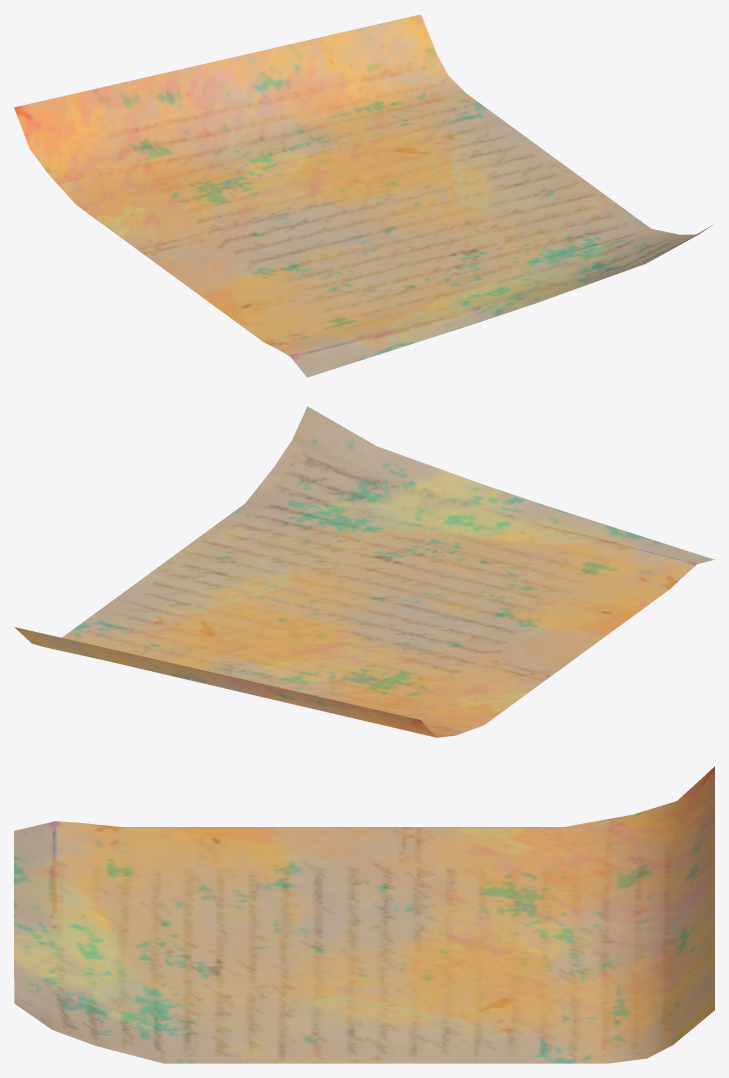
Rendered from SM_Paper_06.fbx.
The picture shows the model from 3 angles, top to bottom: view 1: azimuth 30°, elevation 25°; view 2: azimuth 150°, elevation 25°; view 3: azimuth 270°, elevation 25°; orthographic projection. The views are drawn at different scales.
Parts seen in each view (by area): view 1: SM_Paper_06_LOD0; view 2: SM_Paper_06_LOD0; view 3: SM_Paper_06_LOD0.
Part boxes in pixels (box(x1,y1,x2,y2)): SM_Paper_06_LOD0: box(14, 14, 713, 377); SM_Paper_06_LOD0: box(14, 406, 714, 737); SM_Paper_06_LOD0: box(14, 766, 714, 1063).
Size of the model in its own units: 17.79 by 22.22 by 2.28.
Materials: 1 (1 with a texture image).
